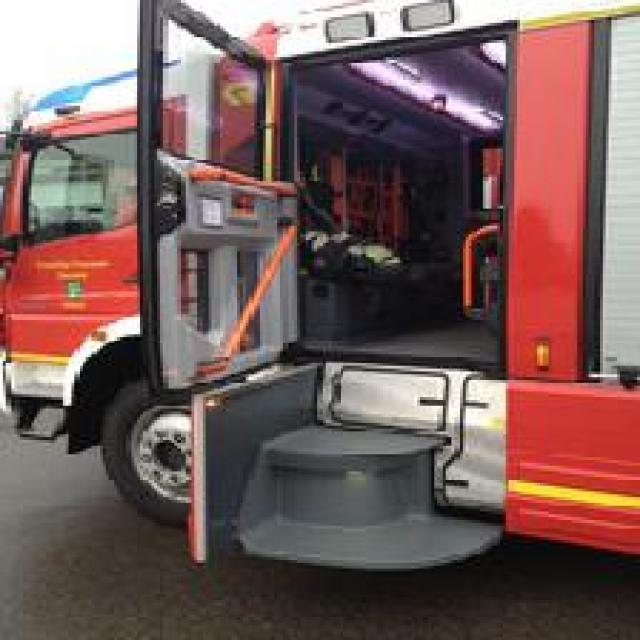emergency: (0, 0, 636, 586)
